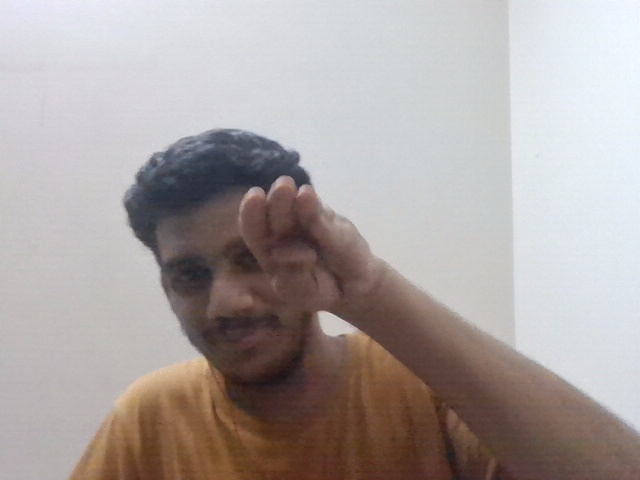no: (220, 175, 408, 343)
